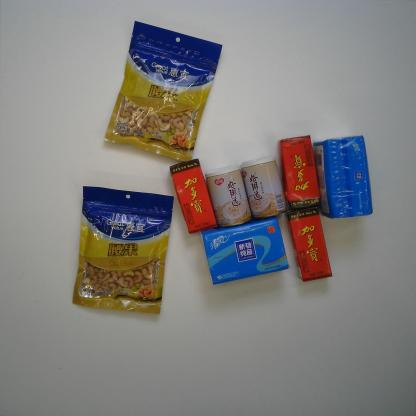Canned Food: (204, 162, 253, 230), (239, 153, 288, 218)
Dried Fruit: (104, 17, 225, 164), (70, 184, 174, 313)
Drink: (170, 155, 219, 236), (283, 204, 332, 284), (276, 134, 321, 212)
Tissue: (197, 213, 290, 288), (312, 132, 374, 222)
